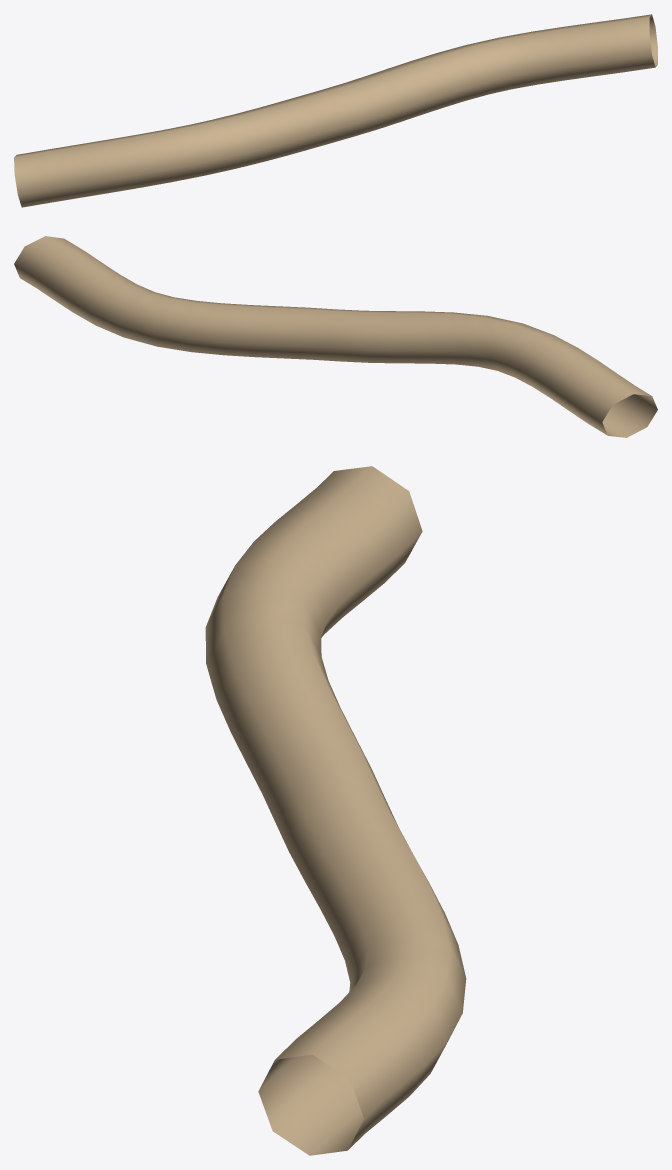
File: right_clavicle.glb
3 views of the same model, one above another, from view 1: azimuth 30°, elevation 25°; view 2: azimuth 150°, elevation 25°; view 3: azimuth 270°, elevation 25° (orthographic). The views are drawn at different scales.
Parts seen in each view (by area): view 1: right_clavicle:s-curve; view 2: right_clavicle:s-curve; view 3: right_clavicle:s-curve.
Part boxes in pixels (box(x1,y1,x2,y2)): right_clavicle:s-curve: box(14, 14, 657, 207); right_clavicle:s-curve: box(14, 236, 657, 437); right_clavicle:s-curve: box(205, 466, 466, 1155).
Bounding box in the file's own units: 0.4816 × 0.0516 × 0.086.
